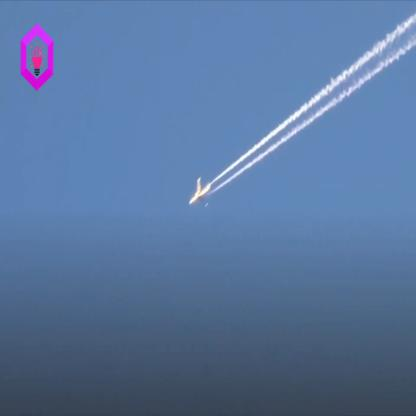plane: (185, 175, 218, 212)
